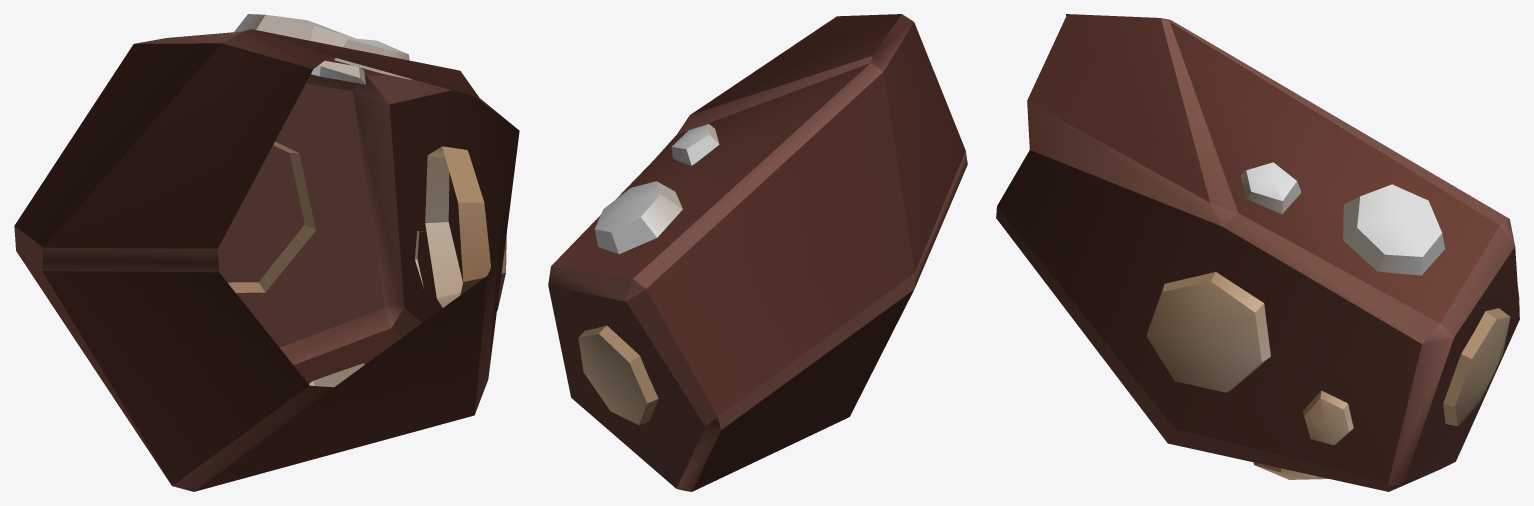
The model's file is ChocolateChunkA.fbx.
3 views of the same model, side by side, from view 1: azimuth 30°, elevation 25°; view 2: azimuth 150°, elevation 25°; view 3: azimuth 270°, elevation 25° (orthographic). The views are drawn at different scales.
Parts seen in each view (by area): view 1: ChocolateChunkA; view 2: ChocolateChunkA; view 3: ChocolateChunkA.
Part boxes in pixels (left/top/right/bottom): ChocolateChunkA: left=14, top=14, right=519, bottom=491; ChocolateChunkA: left=548, top=14, right=967, bottom=491; ChocolateChunkA: left=996, top=14, right=1519, bottom=491.
Size of the model in its own units: 53.96 by 64.3 by 71.98.
